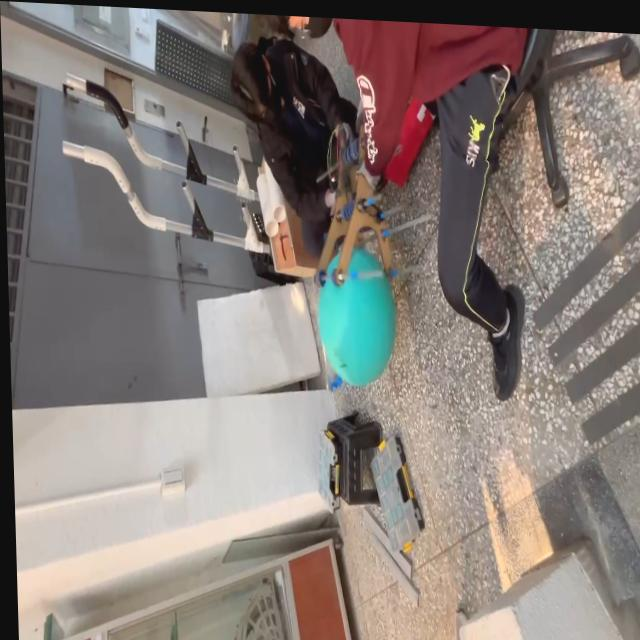ALGAE: (315, 244, 399, 391)
